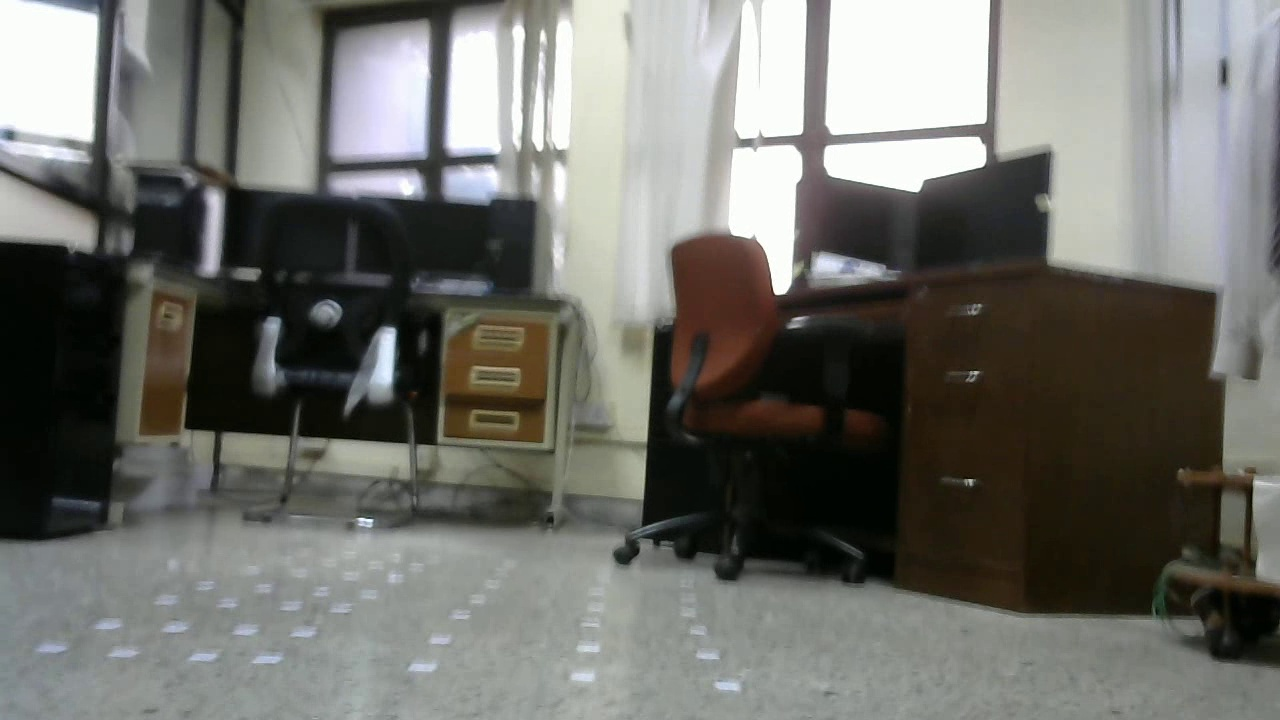chair: (608, 235, 883, 589), (248, 195, 422, 529)
